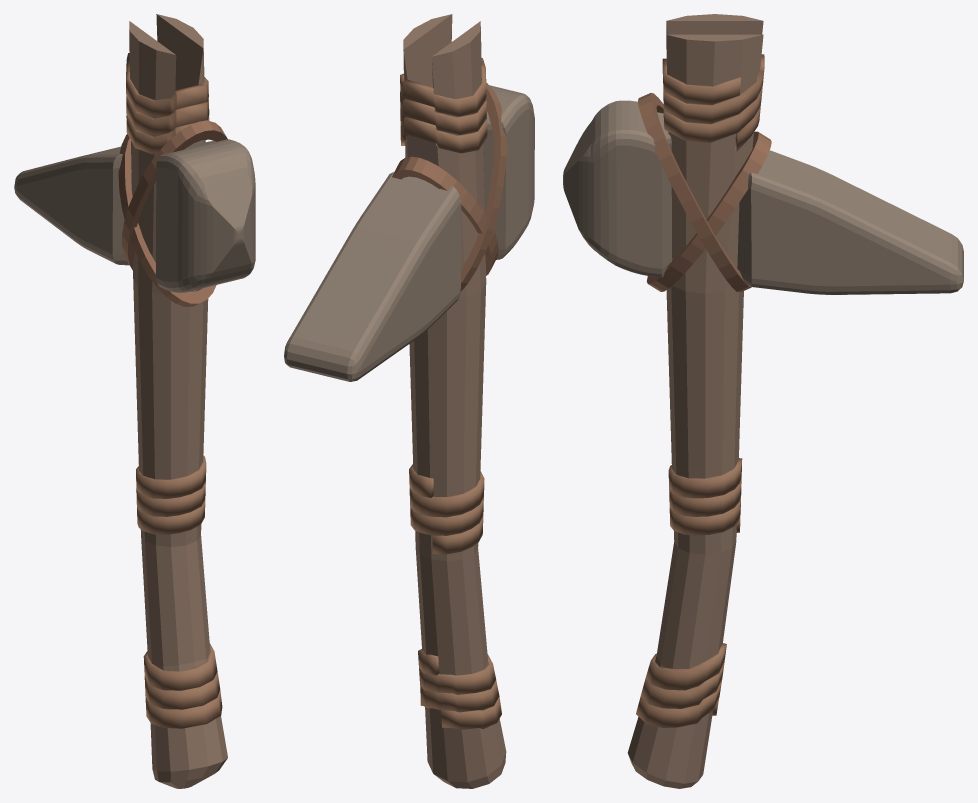
The model's file is PiocheKayou.fbx.
The picture shows the model from 3 angles, left to right: view 1: azimuth 30°, elevation 25°; view 2: azimuth 150°, elevation 25°; view 3: azimuth 270°, elevation 25°; orthographic projection. The views are drawn at different scales.
Parts seen in each view (by area): view 1: Plane.001; view 2: Plane.001; view 3: Plane.001.
Boxes of the visible parts, left/top/right/bottom form: Plane.001: left=14, top=14, right=255, bottom=788; Plane.001: left=284, top=14, right=534, bottom=788; Plane.001: left=563, top=14, right=963, bottom=788.
Bounding box in the file's own units: 50.9 × 394 × 189.
